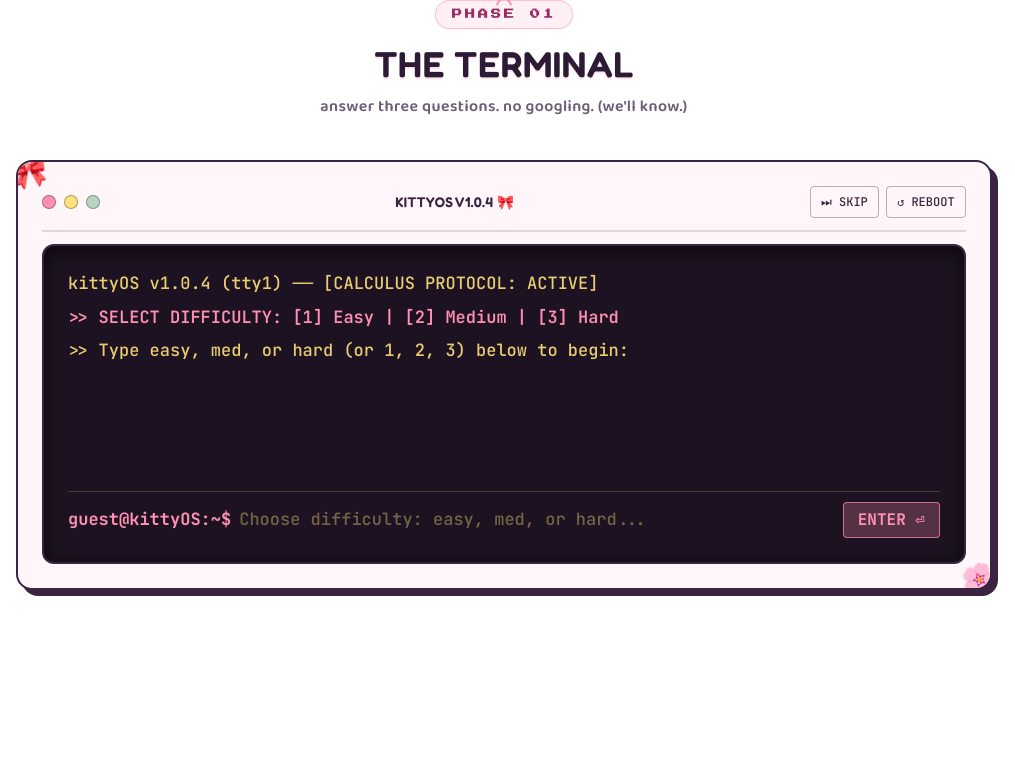
Test: KittyOS Terminal Quiz Workflow › Q1: Generated Calculus Question & Retry Flow › moves to Q2 on 'give up' with pity note
Step 1. Type "1" into the field named "kittyOS terminal command input" → (537, 520), box [239,507,835,533]
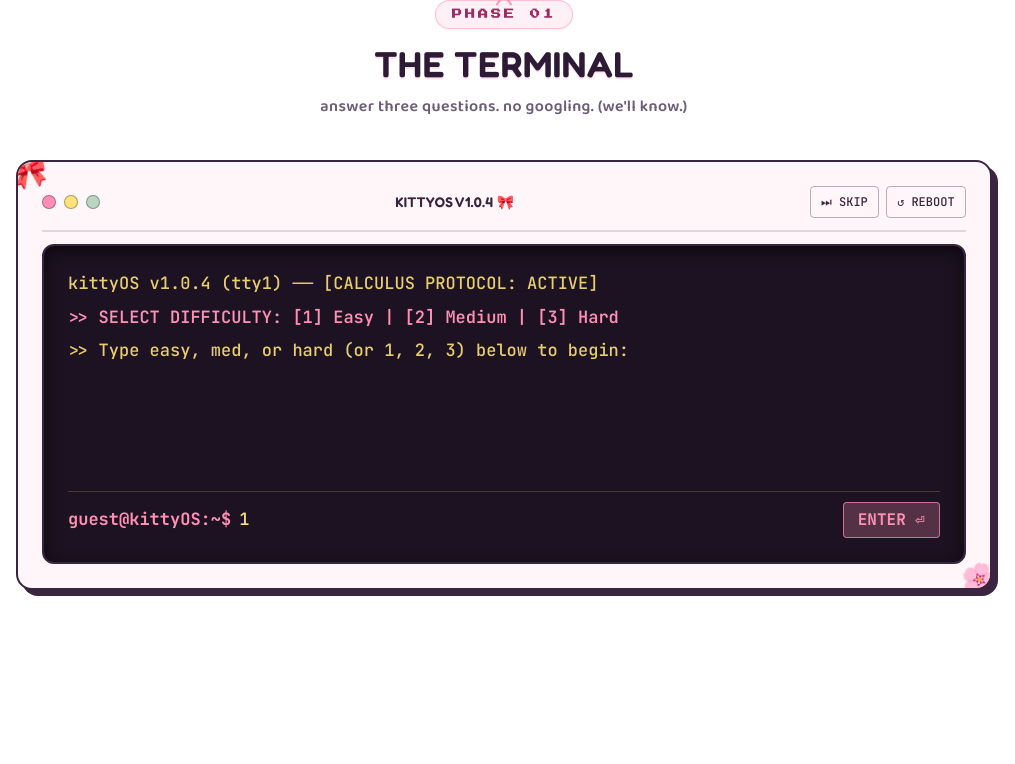
Step 2. Submit the form named "kittyOS terminal command input", box [68,491,940,538]
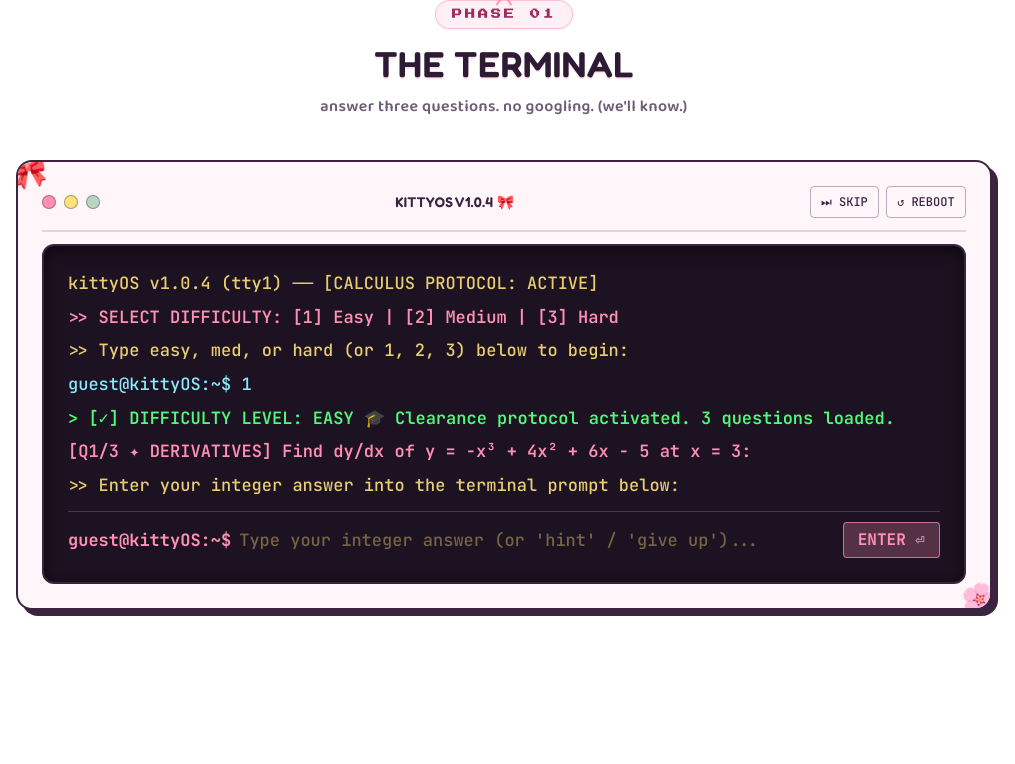
Step 3. Type "give up" into the field named "kittyOS terminal command input" → (537, 540), box [239,528,835,553]
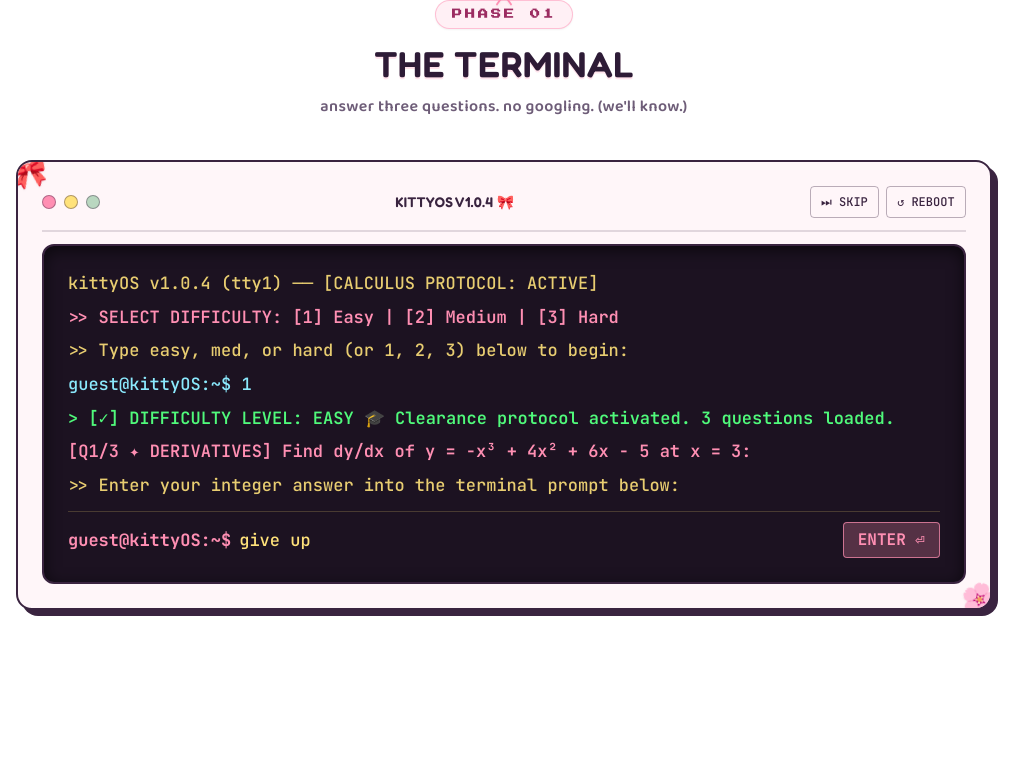
Step 4. Submit the form named "kittyOS terminal command input", box [68,511,940,558]
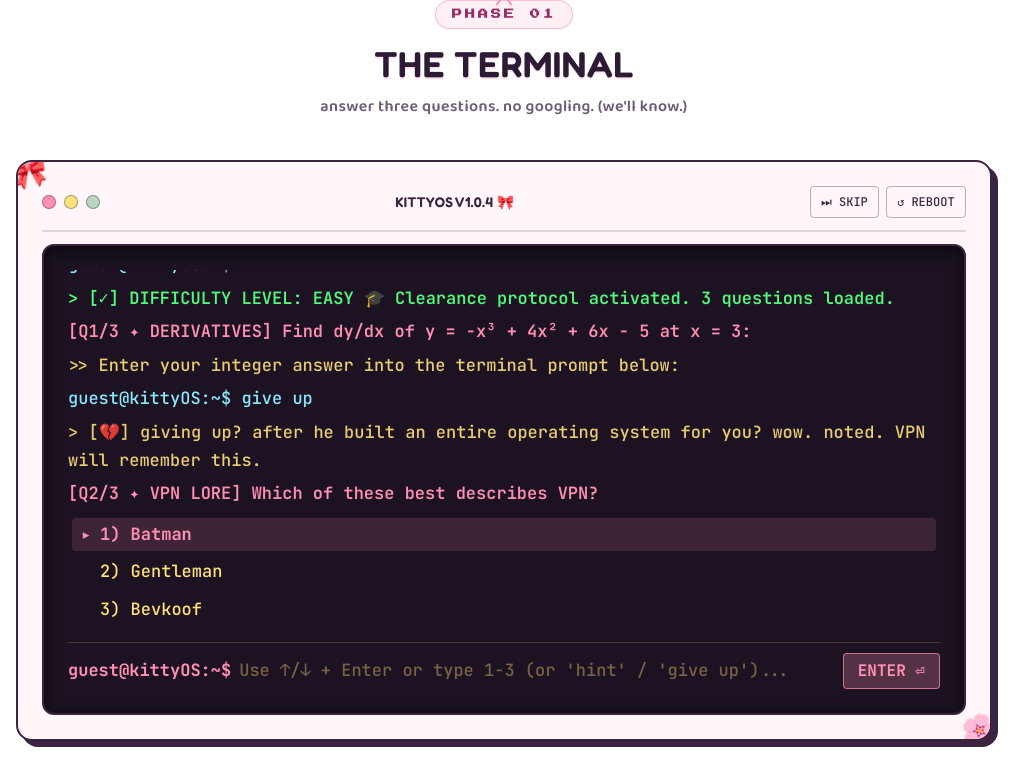
Expected: the text "[Q2/3 ✦ VPN LORE] Which of these best describes VPN?" is shown, [68,482,598,504]
